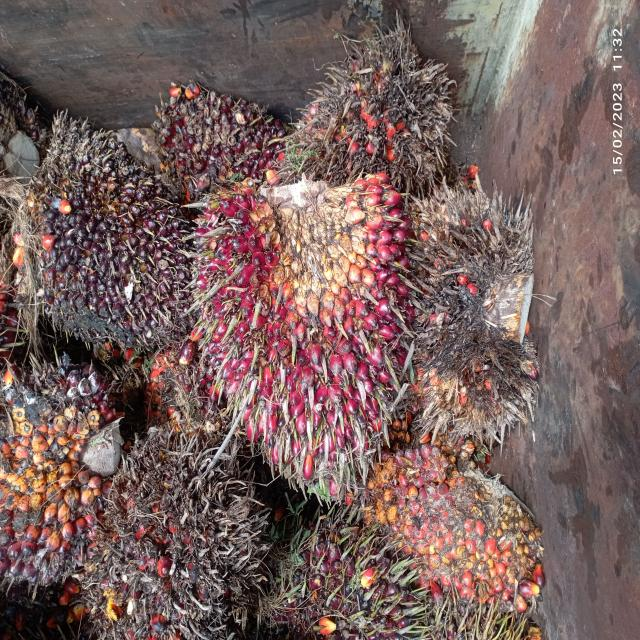fraksi 00: (24, 103, 196, 364), (150, 64, 274, 218)
fraksi 1: (0, 334, 112, 606)
fraksi 3: (180, 145, 428, 522)
fraksi 4: (250, 0, 475, 195), (366, 424, 562, 634), (71, 444, 256, 640)
